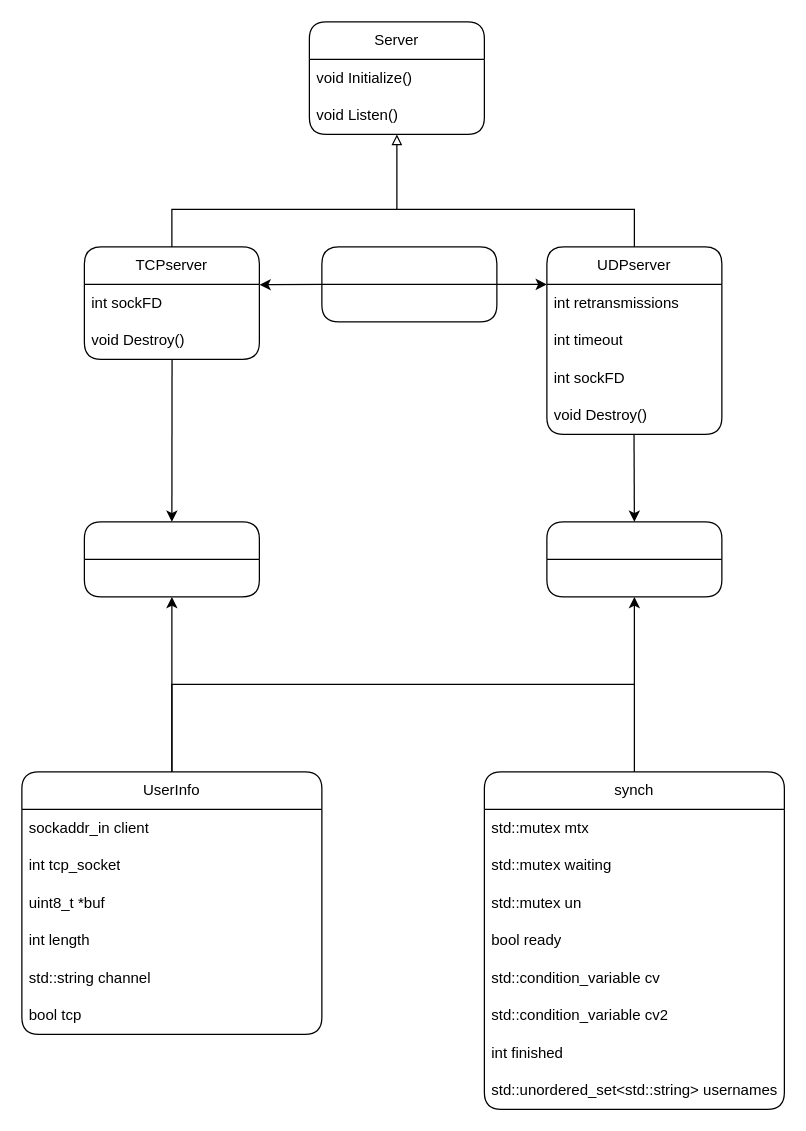
Some shapes in this 806 by 1131 pixel diagram are drawn without their labels. The shapes that lost their labels are listed below. From the top down, each one's centre as x and y in pixels, then its label:
[409,284]: ThreadPool
[171,559]: TCPhandler
[634,559]: UDPhandler
